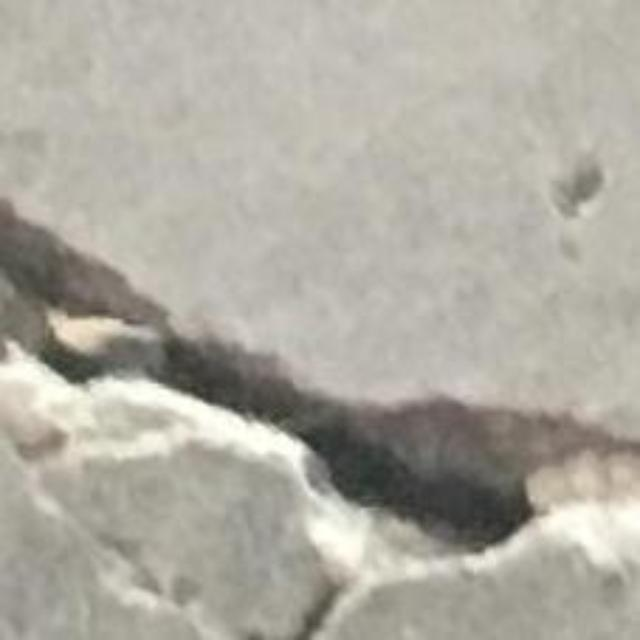crack: (0, 201, 639, 639)
peeling plaster: (553, 153, 606, 217)
